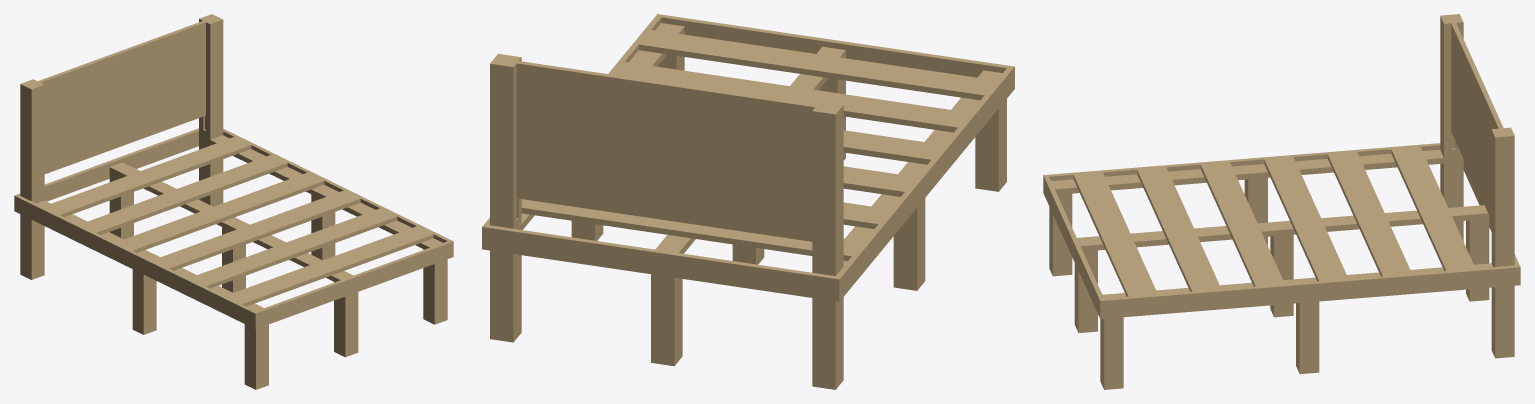
The model's file is BedFrame.glb.
The picture shows the model from 3 angles, left to right: view 1: azimuth 30°, elevation 25°; view 2: azimuth 150°, elevation 25°; view 3: azimuth 270°, elevation 25°; orthographic projection. The views are drawn at different scales.
Visible parts, largest first — view 1: node_id90, node_id74, node_id34, node_id82, node_id58, node_id62, node_id54, node_id70, node_id94, node_id66, node_id38, node_id86 (+11 smaller); view 2: node_id90, node_id86, node_id34, node_id70, node_id38, node_id62, node_id82, node_id74, node_id94, node_id10, node_id22, node_id30 (+9 smaller); view 3: node_id78, node_id90, node_id38, node_id62, node_id70, node_id54, node_id66, node_id58, node_id94, node_id46, node_id34, node_id42 (+11 smaller).
Part boxes in pixels (<box>): node_id90: <box>36,20,206,173</box>; node_id74: <box>17,196,255,327</box>; node_id34: <box>20,79,44,279</box>; node_id82: <box>252,240,453,329</box>; node_id58: <box>116,172,324,252</box>; node_id62: <box>189,208,397,288</box>; node_id54: <box>152,190,360,270</box>; node_id70: <box>225,226,433,306</box>; node_id94: <box>43,137,251,216</box>; node_id66: <box>79,155,287,234</box>; node_id38: <box>199,14,223,206</box>; node_id86: <box>14,128,198,212</box>; node_id90: <box>514,60,819,241</box>; node_id86: <box>482,224,841,301</box>; node_id34: <box>812,101,843,389</box>; node_id70: <box>639,29,996,100</box>; node_id38: <box>490,53,521,342</box>; node_id62: <box>614,62,969,132</box>; node_id82: <box>655,14,1014,91</box>; node_id74: <box>836,68,1012,298</box>; node_id94: <box>521,199,863,261</box>; node_id10: <box>651,274,682,366</box>; node_id22: <box>893,198,925,290</box>; node_id30: <box>975,99,1006,191</box>; node_id78: <box>1104,265,1515,318</box>; node_id90: <box>1451,22,1503,220</box>; node_id38: <box>1491,127,1514,358</box>; node_id62: <box>1137,167,1221,291</box>; node_id70: <box>1073,172,1157,296</box>; node_id54: <box>1200,162,1284,286</box>; node_id66: <box>1327,152,1411,276</box>; node_id58: <box>1264,157,1348,281</box>; node_id94: <box>1391,147,1475,271</box>; node_id46: <box>1077,205,1489,251</box>; node_id34: <box>1440,14,1463,241</box>; node_id42: <box>1051,149,1443,194</box>.
Bounding box in the file's own units: 0.6383 × 0.4113 × 0.805.
23 materials, 23 textured.
